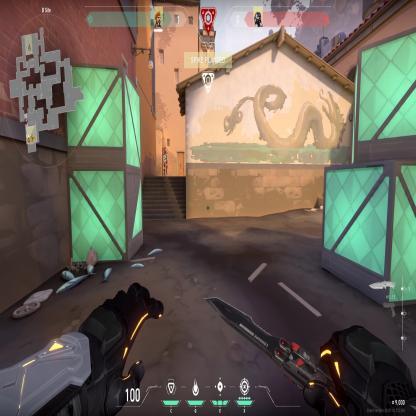enemy: (162, 146, 169, 178)
